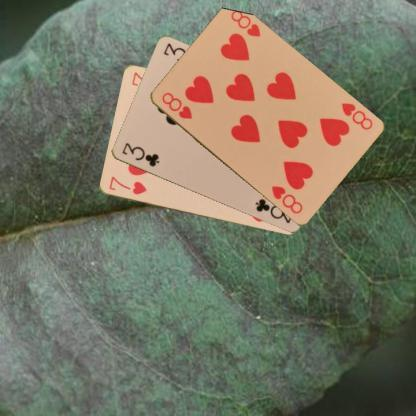3c: (119, 140, 161, 168)
7h: (106, 173, 148, 196)
8h: (338, 100, 374, 132), (159, 90, 193, 120)
